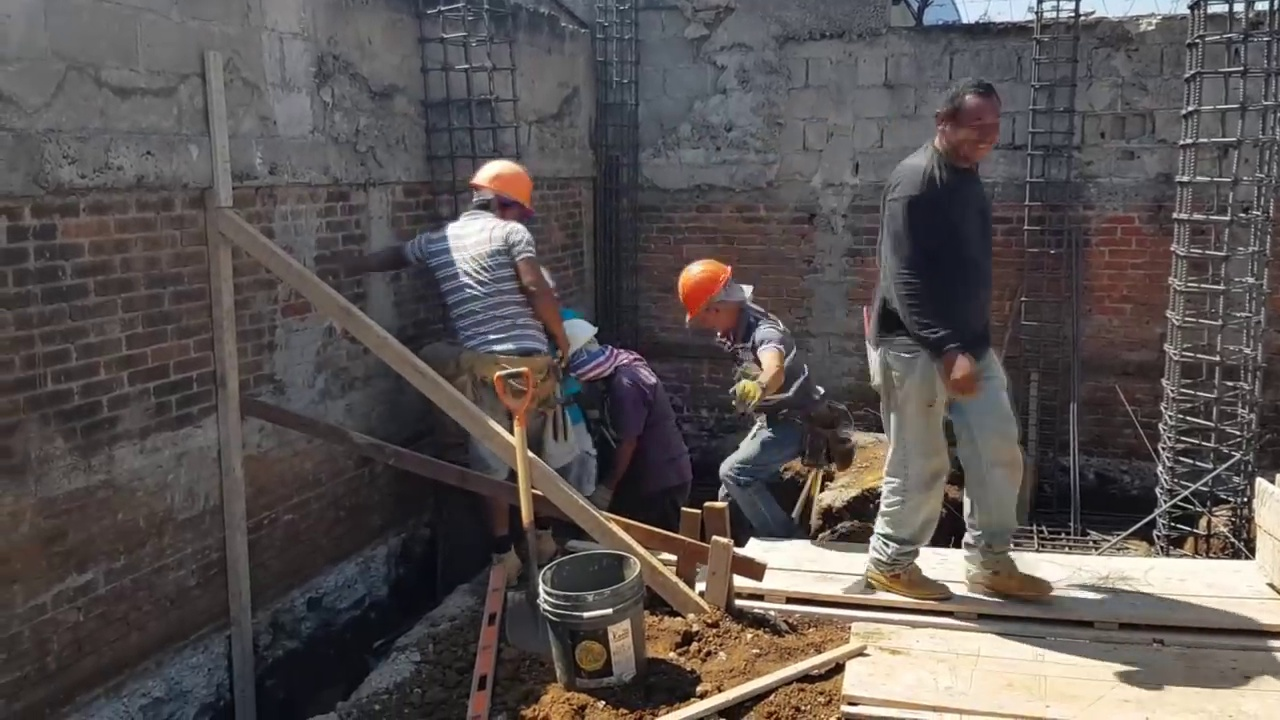helmet: (677, 257, 736, 325), (462, 163, 533, 208), (562, 316, 599, 359)
helmet-off: (937, 79, 1011, 178)
helmet-on: (676, 257, 752, 341), (456, 161, 538, 225), (557, 316, 600, 371)
person: (872, 67, 1037, 627), (335, 152, 568, 511), (675, 255, 823, 557), (558, 316, 690, 530)
